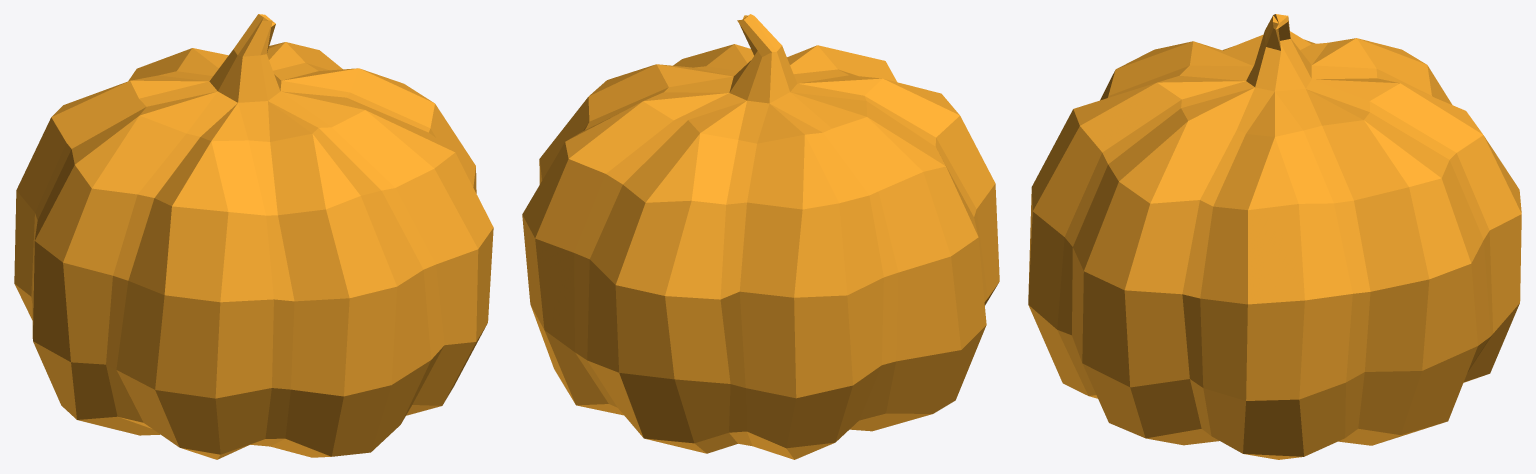
Rendered from SM_Pumpkin_C.fbx.
3 renders of one model, left to right at view 1: azimuth 30°, elevation 25°; view 2: azimuth 150°, elevation 25°; view 3: azimuth 270°, elevation 25°, orthographic. The views are drawn at different scales.
Parts seen in each view (by area): view 1: pumpkin-c; view 2: pumpkin-c; view 3: pumpkin-c.
Part boxes in pixels (<box>): pumpkin-c: <box>14,14,493,459</box>; pumpkin-c: <box>522,14,999,459</box>; pumpkin-c: <box>1028,14,1521,459</box>.
Bounding box in the file's own units: 0.4753 × 0.4223 × 0.4719.
